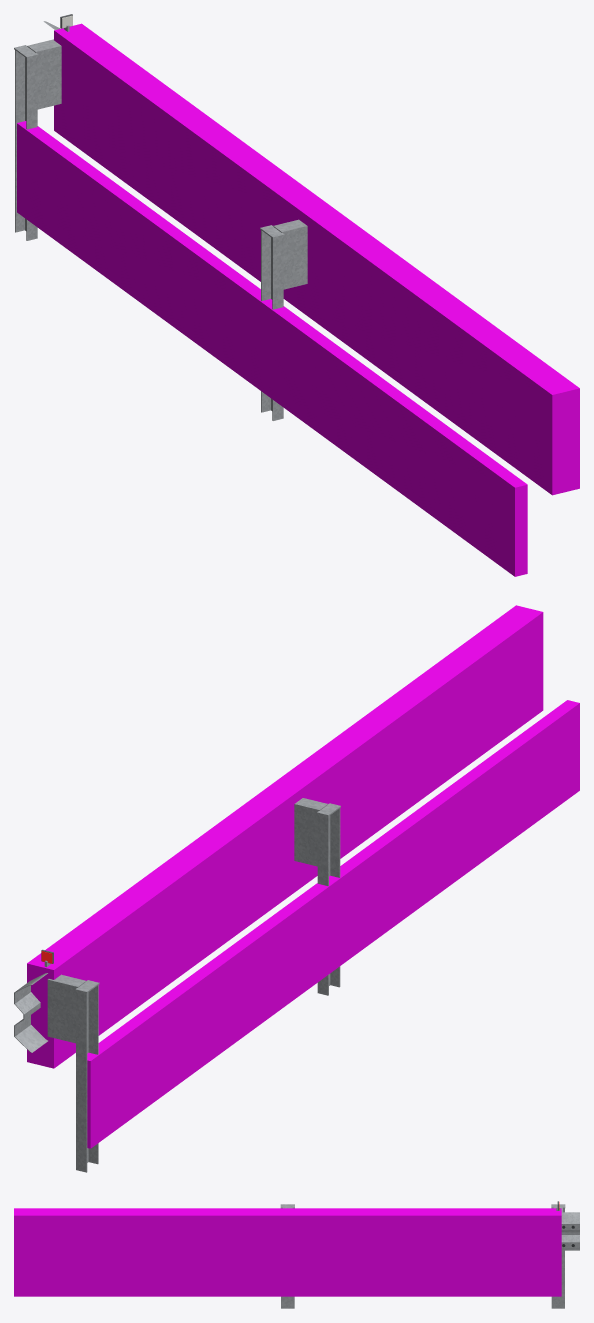
File: EN_Barrier_WBeam_4m.fbx
The picture shows the model from 3 angles, top to bottom: view 1: azimuth 30°, elevation 25°; view 2: azimuth 150°, elevation 25°; view 3: azimuth 270°, elevation 25°; orthographic projection. The views are drawn at different scales.
Parts seen in each view (by area): view 1: COL_Barrier, EN_Barrier_WBeam_4m_Mesh; view 2: COL_Barrier, EN_Barrier_WBeam_4m_Mesh; view 3: COL_Barrier, EN_Barrier_WBeam_4m_Mesh.
Boxes of the visible parts, x1=… form: COL_Barrier: x1=17, y1=23, x2=579, y2=576; EN_Barrier_WBeam_4m_Mesh: x1=14, y1=14, x2=307, y2=420; COL_Barrier: x1=27, y1=605, x2=579, y2=1148; EN_Barrier_WBeam_4m_Mesh: x1=14, y1=798, x2=340, y2=1172; COL_Barrier: x1=14, y1=1208, x2=561, y2=1296; EN_Barrier_WBeam_4m_Mesh: x1=280, y1=1201, x2=579, y2=1308.
Bounding box in the file's own units: 0.305 × 0.94 × 4.19.
